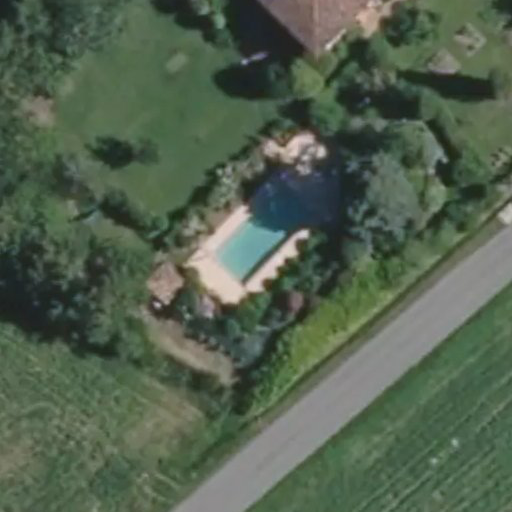pool: (202, 178, 316, 285)
